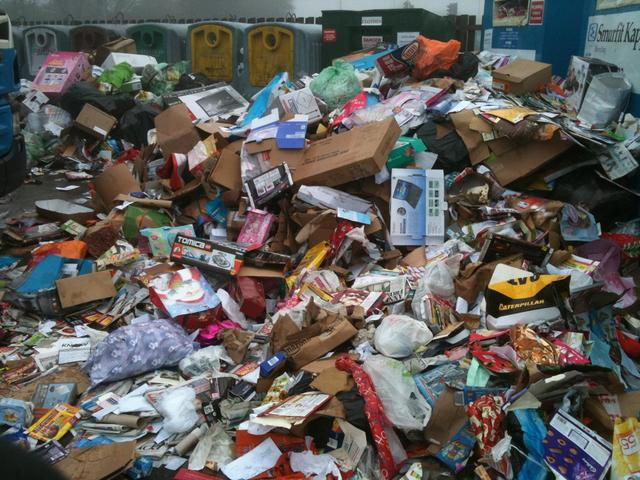garbage: (25, 193, 631, 480), (197, 93, 621, 198)
